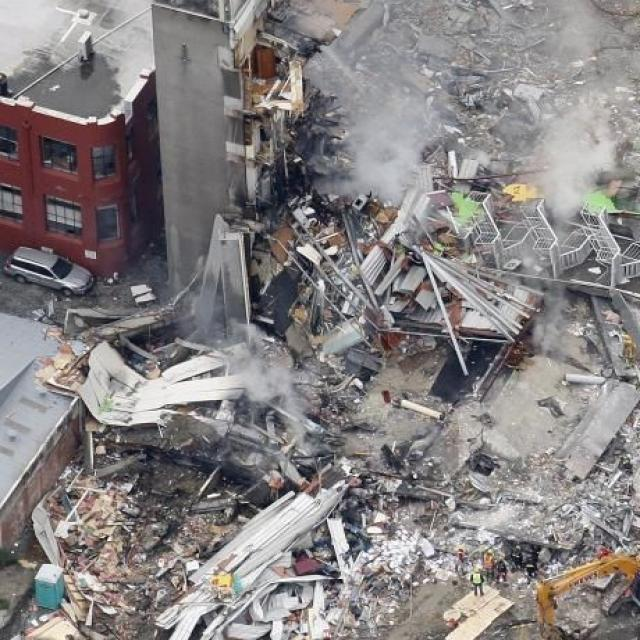collapsed_building: (150, 3, 616, 411)
